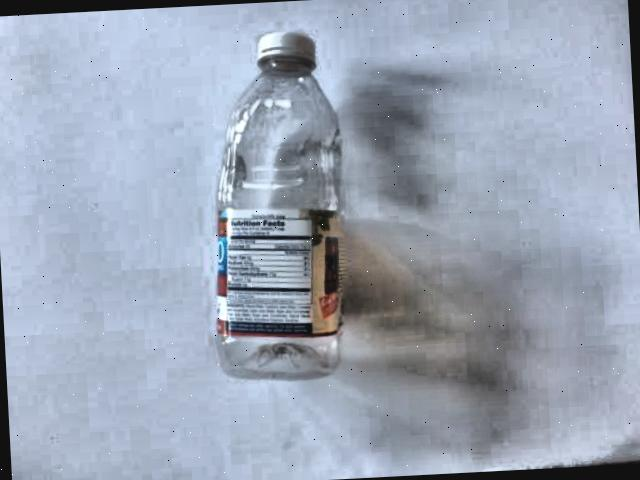Bottles: (188, 11, 391, 417)
